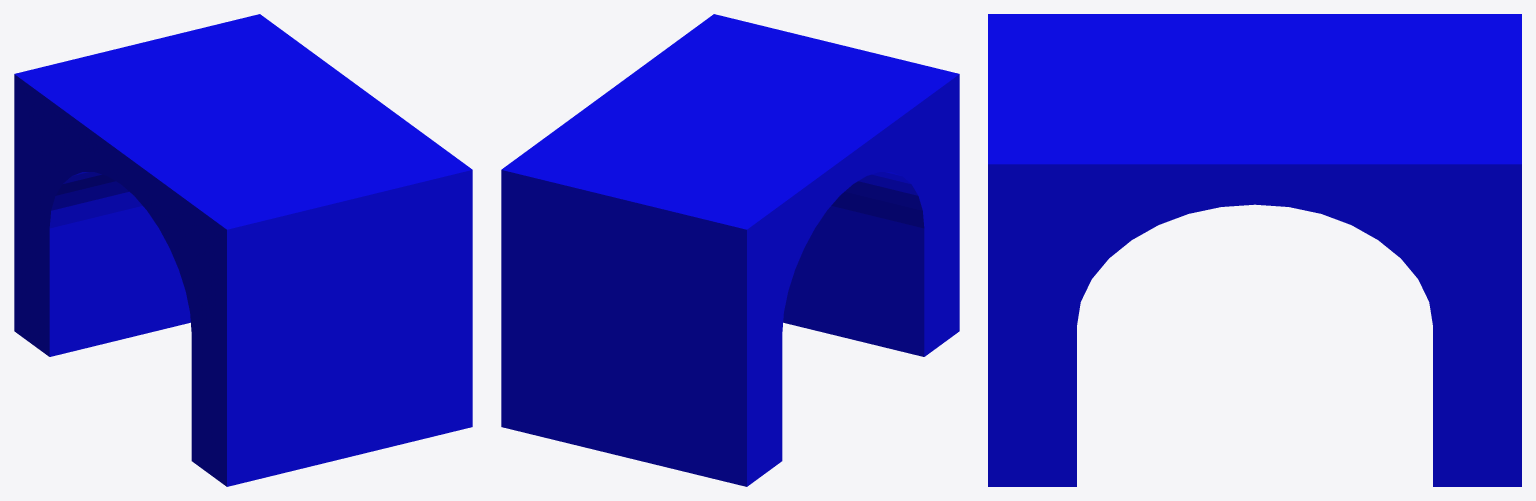
File: CELLING_ARCH.fbx
The picture shows the model from 3 angles, left to right: view 1: azimuth 30°, elevation 25°; view 2: azimuth 150°, elevation 25°; view 3: azimuth 270°, elevation 25°; orthographic projection. The views are drawn at different scales.
Parts seen in each view (by area): view 1: CELLING_ARCH; view 2: CELLING_ARCH; view 3: CELLING_ARCH.
Boxes of the visible parts, x1,y1,x2,y2 form: CELLING_ARCH: (14, 14, 472, 486); CELLING_ARCH: (501, 14, 959, 486); CELLING_ARCH: (988, 14, 1521, 486).
Size of the model in its own units: 400 by 400 by 600.
